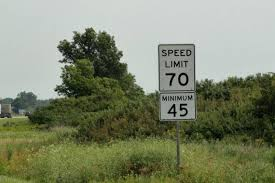speedLimit70: (156, 42, 196, 92)
